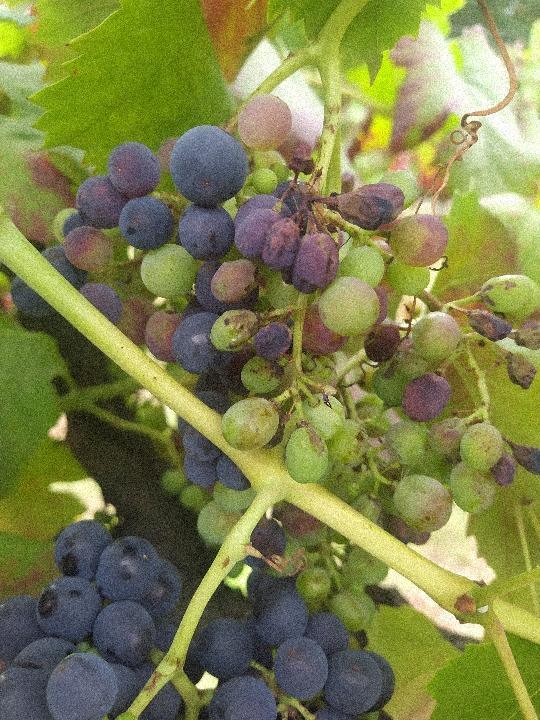grape: (9, 89, 540, 633)
